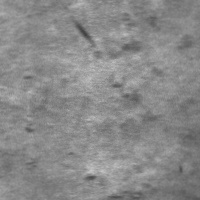rolled-in_scale: (117, 13, 168, 99), (106, 74, 163, 132), (81, 164, 155, 199), (94, 21, 145, 61)
